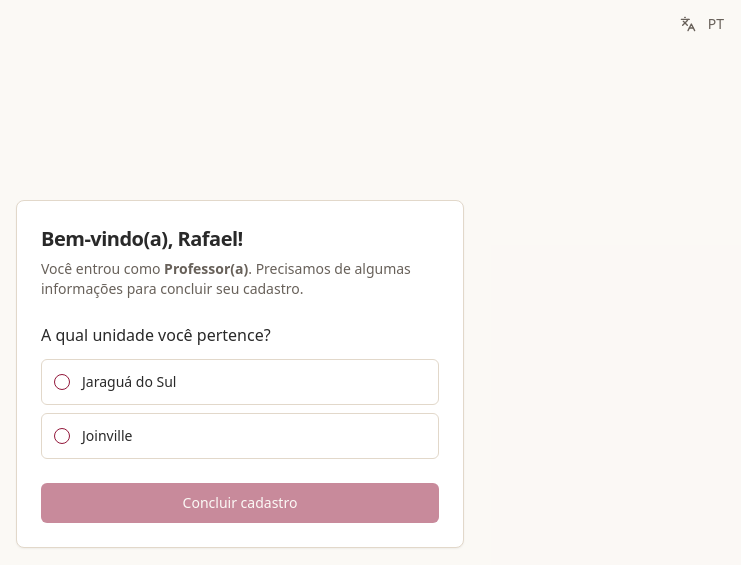
it: Onboarding › o envio começa desabilitado, até escolher uma unidade
Expected: the button "Concluir cadastro" is disabled, [41,483,439,523]
Click the text "Jaraguá do Sul": click(129, 382) [82,372,176,392]
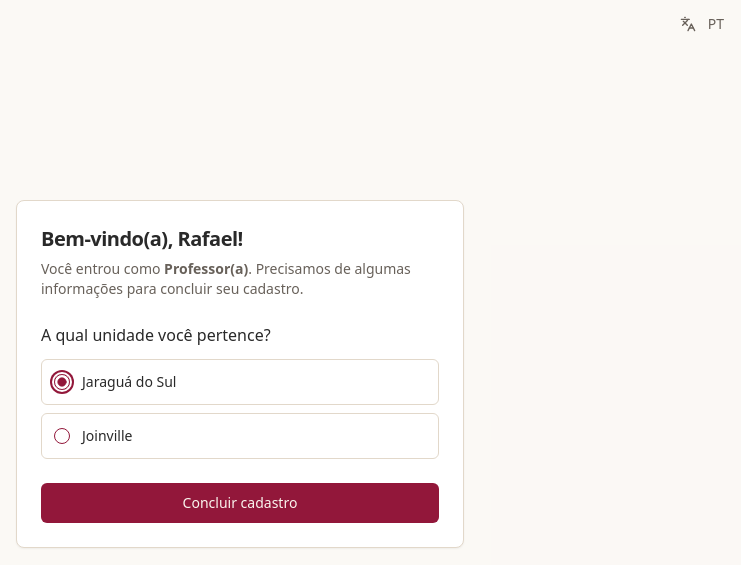
Now the button "Concluir cadastro" is enabled, box [41,483,439,523]
